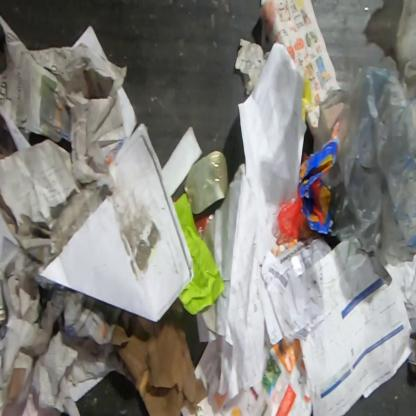cardboard: (298, 139, 334, 236)
metal: (183, 150, 230, 215)
soft_plastic: (318, 63, 415, 274), (275, 186, 318, 246), (394, 0, 415, 100)
